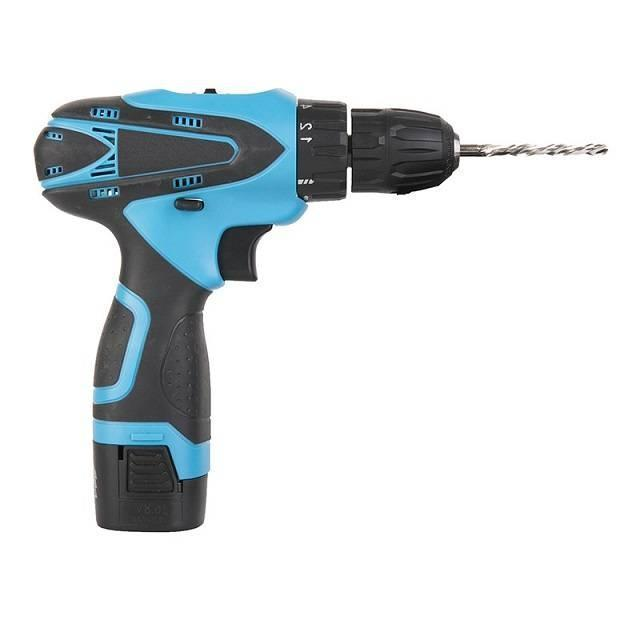drill: (32, 89, 608, 534)
